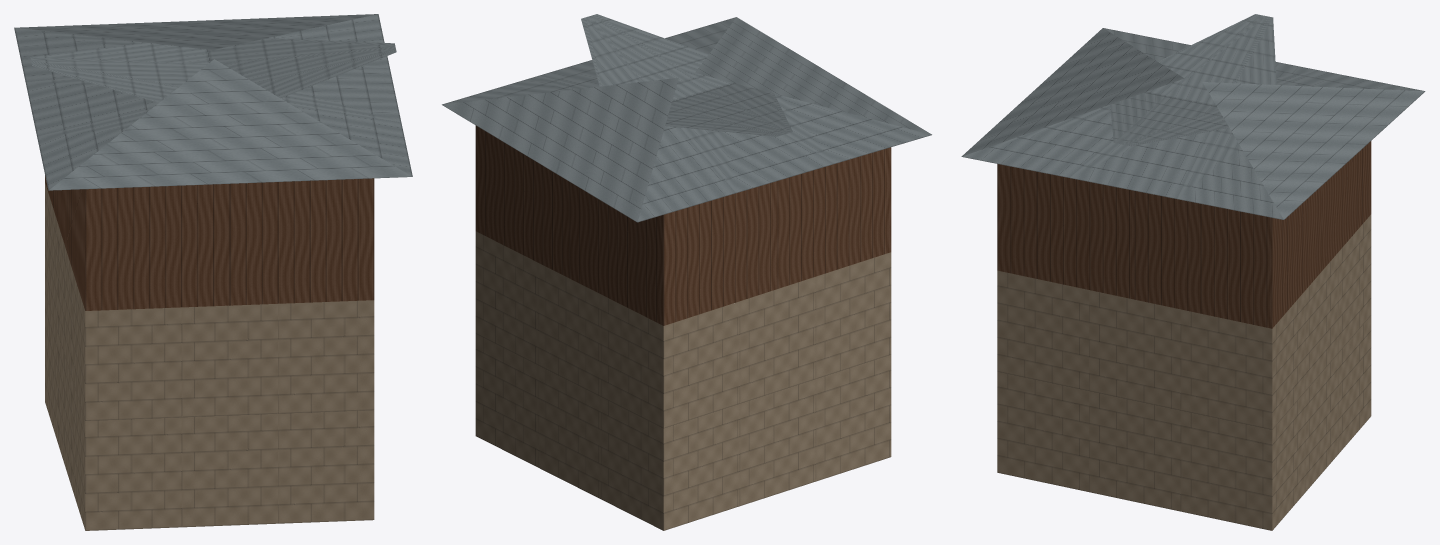
Rendered from bld_c10_41_502.gltf.
3 views of the same model, side by side, from view 1: azimuth 30°, elevation 25°; view 2: azimuth 150°, elevation 25°; view 3: azimuth 270°, elevation 25° (orthographic). The views are drawn at different scales.
Parts seen in each view (by area): view 1: bld_c10_41_502; view 2: bld_c10_41_502; view 3: bld_c10_41_502.
Part boxes in pixels (left/top/right/bottom): bld_c10_41_502: left=14, top=14, right=412, bottom=530; bld_c10_41_502: left=442, top=14, right=931, bottom=530; bld_c10_41_502: left=961, top=14, right=1425, bottom=530.
Size of the model in its own units: 9.41 by 8.4 by 9.6.
Materials: 3 (3 with a texture image).
